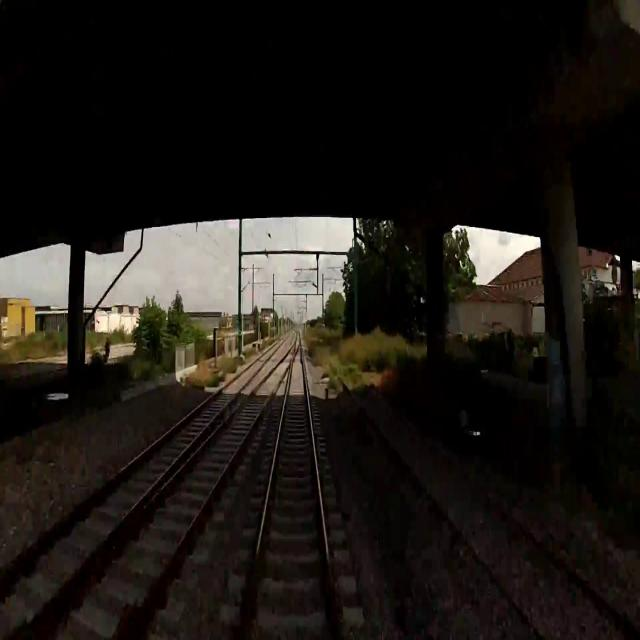rail-track: (0, 346, 276, 639), (17, 350, 292, 639), (363, 388, 638, 639), (246, 348, 338, 639)
